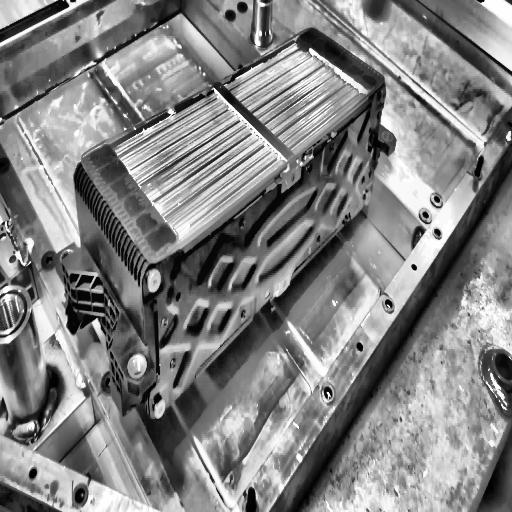battery_module: (73, 26, 387, 427)
